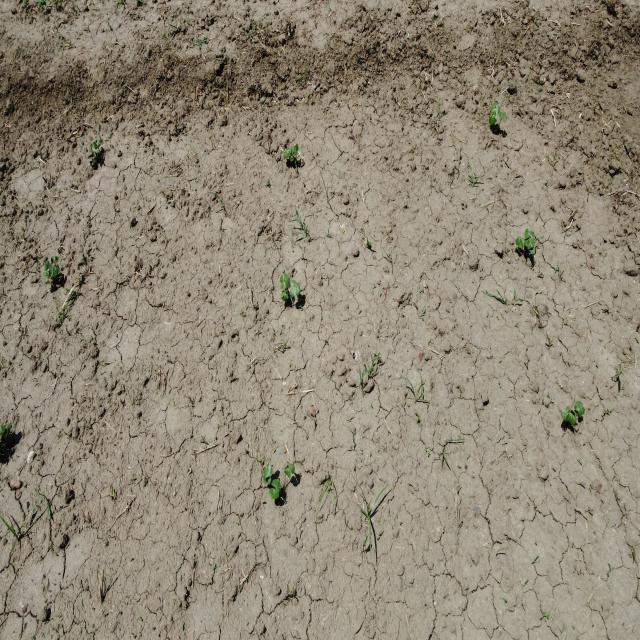seedling: (562, 411, 576, 425), (290, 284, 301, 297), (271, 479, 281, 493), (263, 465, 273, 478), (283, 462, 291, 478), (44, 261, 54, 272), (269, 488, 279, 499), (489, 113, 498, 125), (4, 422, 12, 434), (287, 462, 295, 474), (527, 238, 535, 250), (43, 269, 49, 284), (284, 273, 290, 288), (574, 401, 583, 411), (52, 265, 59, 276), (578, 406, 585, 417), (263, 476, 271, 485), (500, 112, 507, 122), (515, 238, 522, 248), (281, 287, 287, 298), (491, 107, 500, 114), (518, 236, 525, 245), (524, 229, 530, 239), (524, 236, 530, 246), (529, 230, 535, 240), (280, 275, 284, 289), (92, 142, 97, 153), (490, 102, 499, 108), (529, 246, 535, 255), (291, 280, 301, 285), (291, 145, 296, 155), (282, 293, 288, 301), (96, 139, 101, 148), (294, 144, 298, 155), (283, 148, 287, 159), (51, 256, 56, 263), (287, 147, 290, 157)
